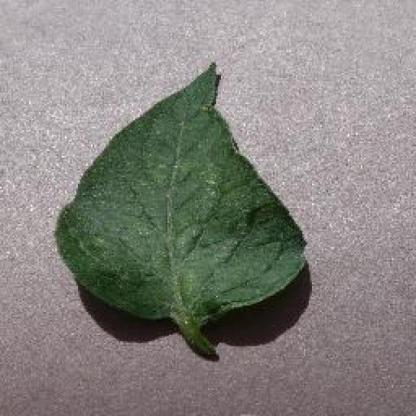Tomato_Spider_Mites: (55, 61, 304, 314)
